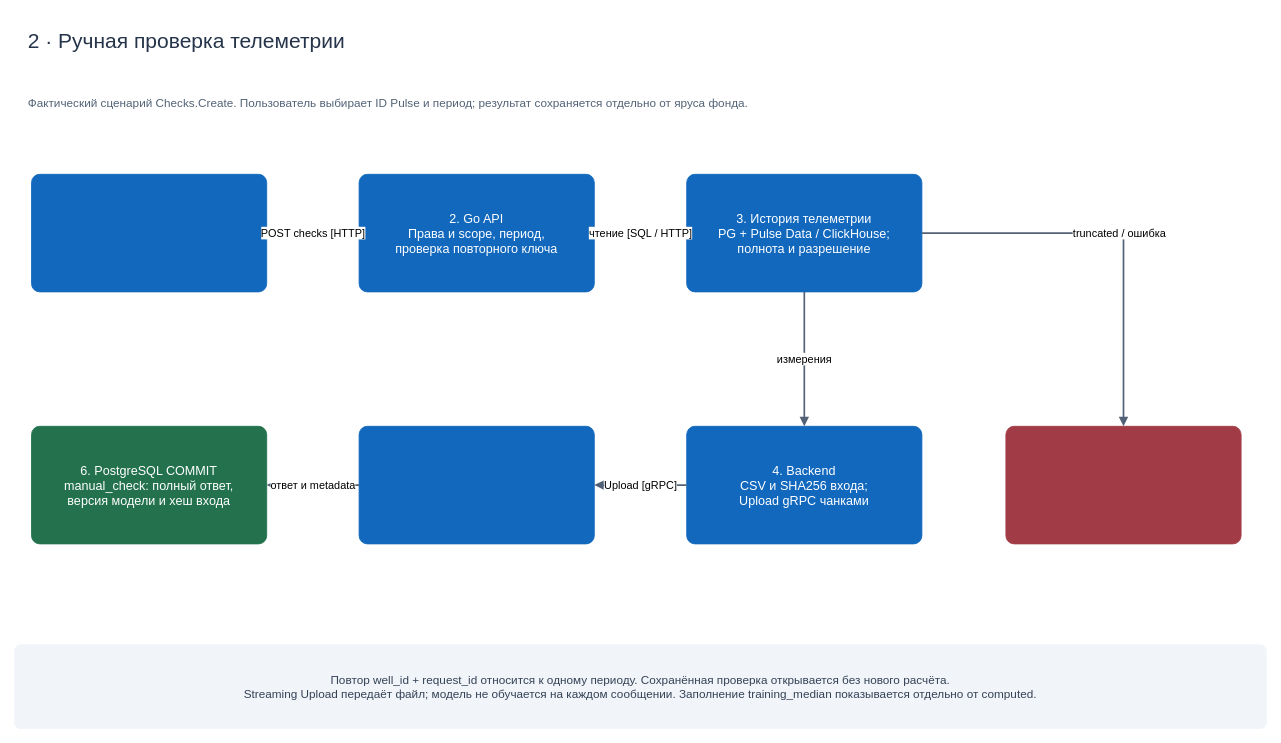
Some shapes in this 1281 by 743 pixel diagram are drawn without their labels. Each missing label, with the centre of its shape:
1. Пользователь / SPA Выбор скважины и периода; стабильный request_id: pixel 149 232
5. Python ML + pulse-model Окна, признаки, модель, риски и contributions: pixel 476 484
Невалидный / неполный вход или недоступный ML Явная ошибка; нет ложного успеха: pixel 1123 484
